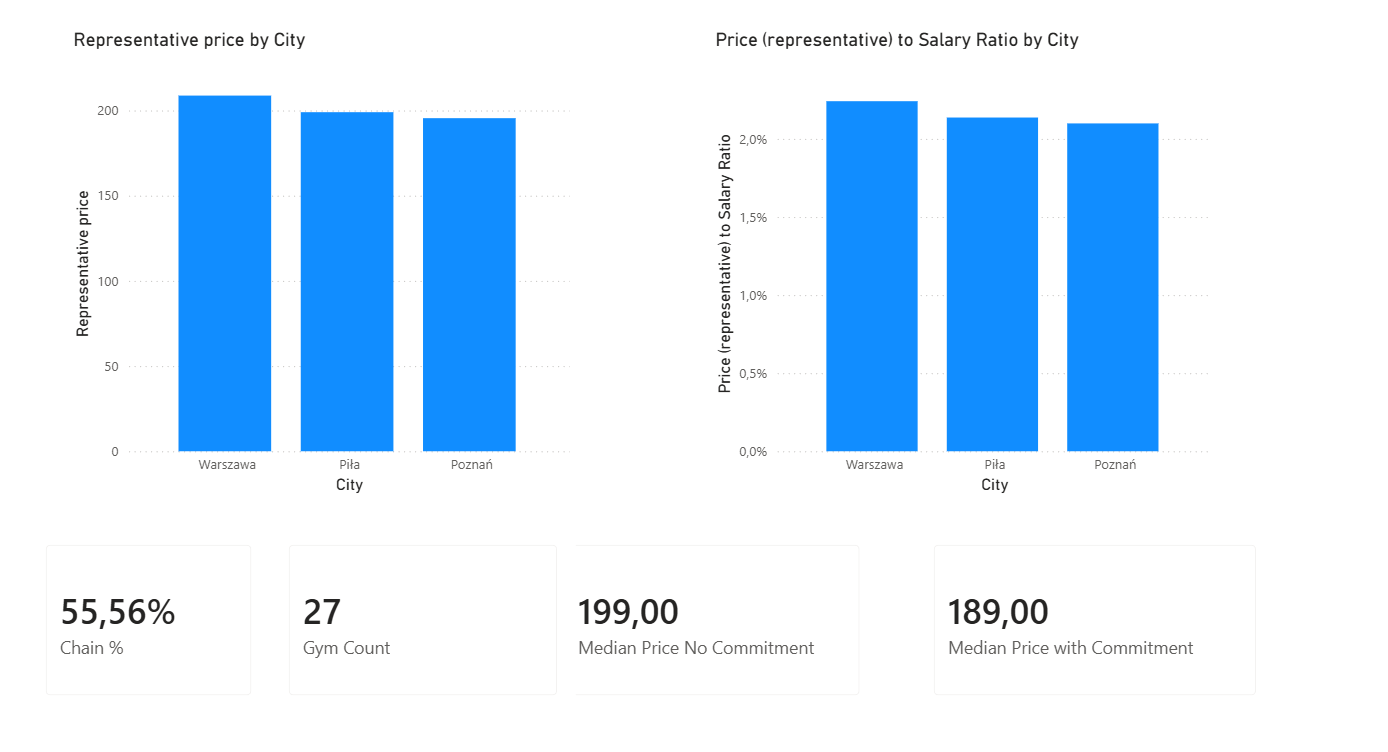

This screenshot's page, from the dashboard's own definition file:
{"tool":"powerbi","page":{"name":"Overview","canvas":[1280,720],"ordinal":0},"visuals":[{"type":"clusteredColumnChart","fields":{"Y":["Gyms_raw.Representative price"],"Category":["Gyms_raw.City"]},"box":[65.6,30,461.1,427.8],"z":0},{"type":"clusteredColumnChart","fields":{"Y":["Gyms_raw.Price (representative) to Salary Ratio"],"Category":["Gyms_raw.City"]},"box":[648.9,30,461.1,427.8],"z":1000},{"type":"cardVisual","fields":{"Data":["Gyms_raw.Chain %"]},"box":[28.4,482.8,221.3,171.2],"z":2000},{"type":"cardVisual","fields":{"Data":["Gyms_raw.Median Price No Commitment"]},"box":[499,482.8,304,171.2],"z":4000},{"type":"cardVisual","fields":{"Data":["Gyms_raw.Median Price with Commitment"]},"box":[835.6,482.8,327.3,171.2],"z":5000},{"type":"cardVisual","fields":{"Data":["Gyms_raw.Gym Count"]},"box":[249,483,278,171],"z":5001}]}

Visuals, with their boxes on the page's 1280x720 design canvas (x1, y1, x2, y2). These are canvas units, not pixel positions in the 1388x752 screenshot, which may show the page scaled, cropped or inside an application window:
clusteredColumnChart - Gyms_raw.Representative price x Gyms_raw.City: box=[66, 30, 527, 458]
clusteredColumnChart - Gyms_raw.Price (representative) to Salary Ratio x Gyms_raw.City: box=[649, 30, 1110, 458]
cardVisual - Gyms_raw.Chain %: box=[28, 483, 250, 654]
cardVisual - Gyms_raw.Median Price No Commitment: box=[499, 483, 803, 654]
cardVisual - Gyms_raw.Median Price with Commitment: box=[836, 483, 1163, 654]
cardVisual - Gyms_raw.Gym Count: box=[249, 483, 527, 654]
